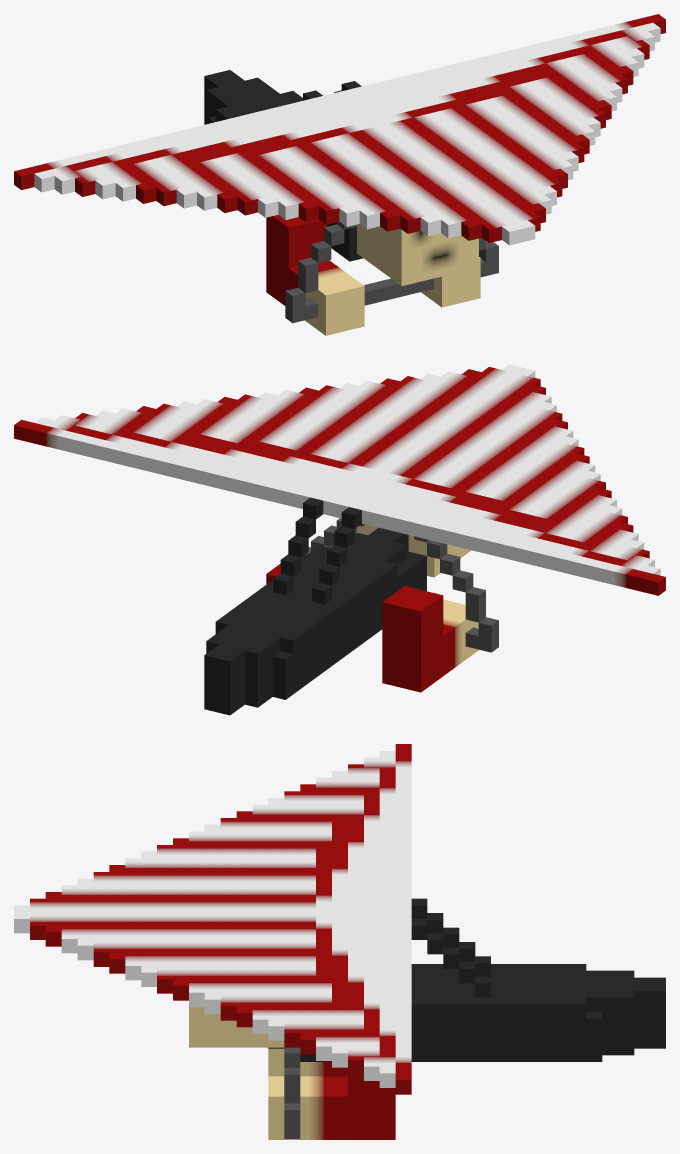
The model's file is Player.fbx.
3 renders of one model, top to bottom at view 1: azimuth 30°, elevation 25°; view 2: azimuth 150°, elevation 25°; view 3: azimuth 270°, elevation 25°, orthographic. The views are drawn at different scales.
Parts seen in each view (by area): view 1: Matrix, Box, 5, Box_1; view 2: Matrix, Box_1, Box, 5; view 3: Matrix, Box_1, Box, 5.
Boxes of the visible parts, x1,y1,x2,y2 form: Matrix: [14, 14, 665, 323]; Box: [266, 215, 480, 335]; 5: [357, 224, 478, 285]; Box_1: [204, 70, 362, 261]; Matrix: [14, 364, 665, 652]; Box_1: [204, 497, 426, 715]; Box: [266, 563, 479, 692]; 5: [357, 524, 470, 577]; Matrix: [14, 744, 411, 1138]; Box_1: [268, 898, 665, 1061]; Box: [268, 1048, 395, 1139]; 5: [189, 1007, 284, 1047].
Size of the model in its own units: 50 by 13 by 41.
Materials: 1 (1 with a texture image).
